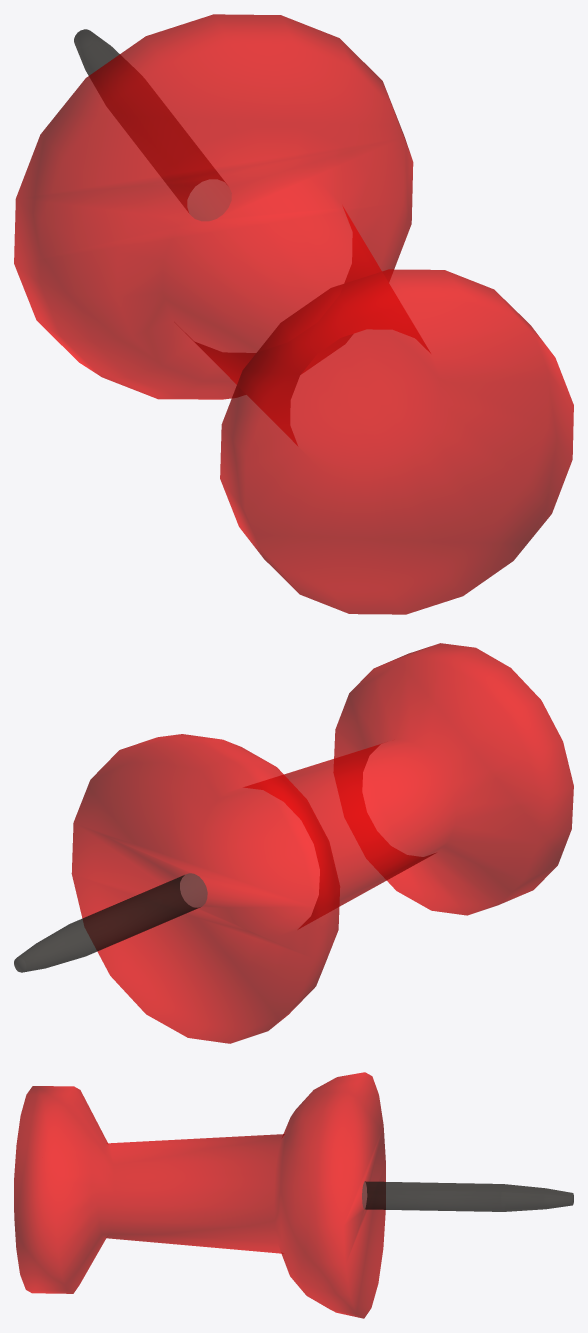
Rendered from pin1.obj.
3 renders of one model, top to bottom at view 1: azimuth 30°, elevation 25°; view 2: azimuth 150°, elevation 25°; view 3: azimuth 270°, elevation 25°, orthographic. The views are drawn at different scales.
Size of the model in its own units: 0.1048 by 0.0932 by 0.2112.
2 materials, 1 textured.
